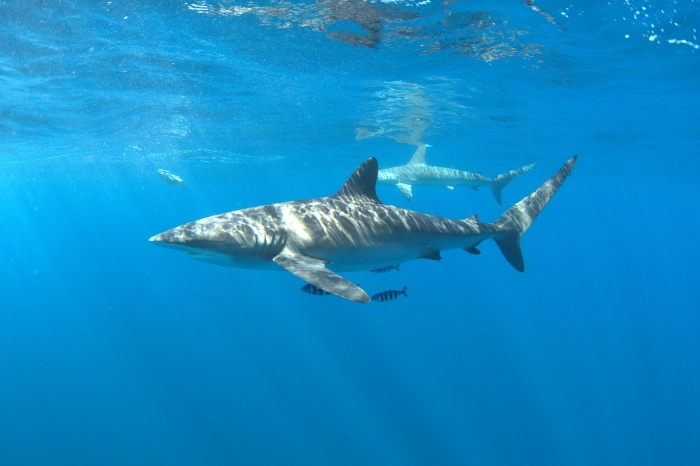Sedoso: (133, 152, 587, 304)
